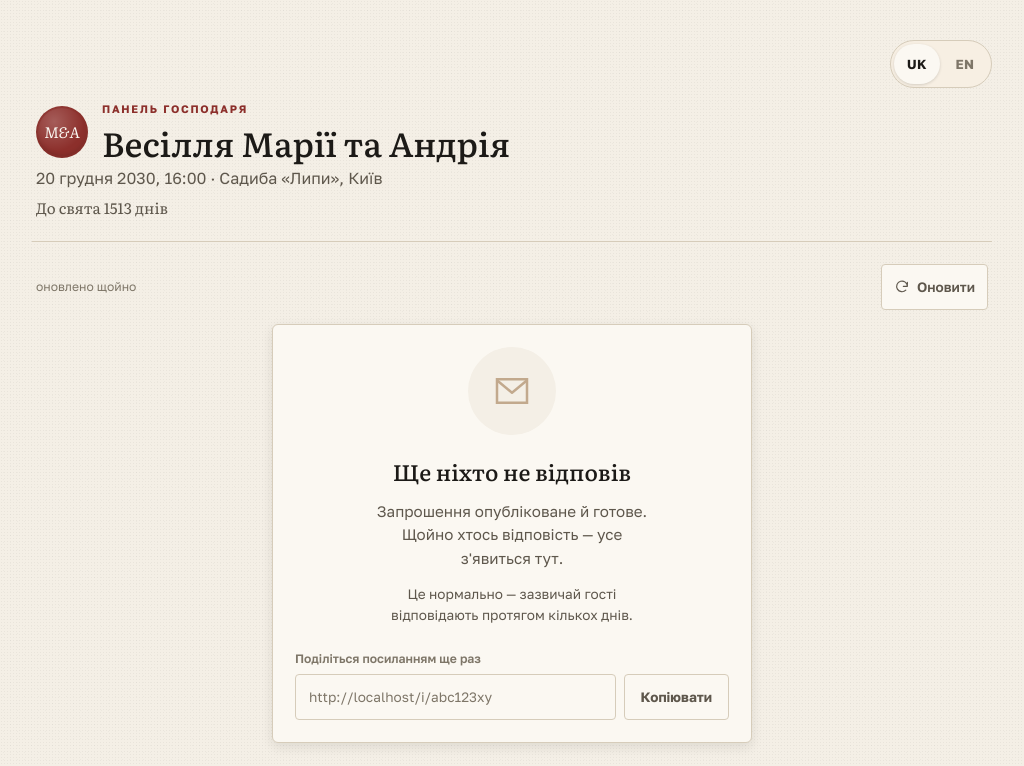
Test: remind guests (adr-019 §8.3) › copies from the empty state's share row through the same hook
Click the button "Копіювати": (676, 697) [624, 674, 729, 720]
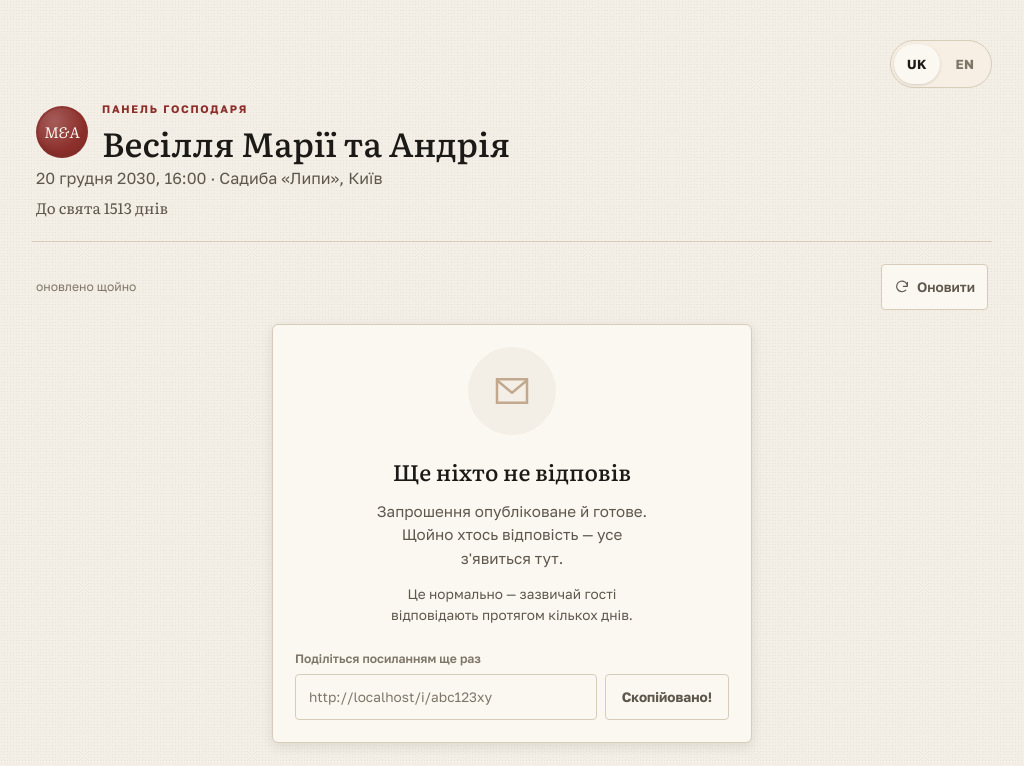
Now the button "Скопійовано!" is shown, box [605, 674, 729, 720]
